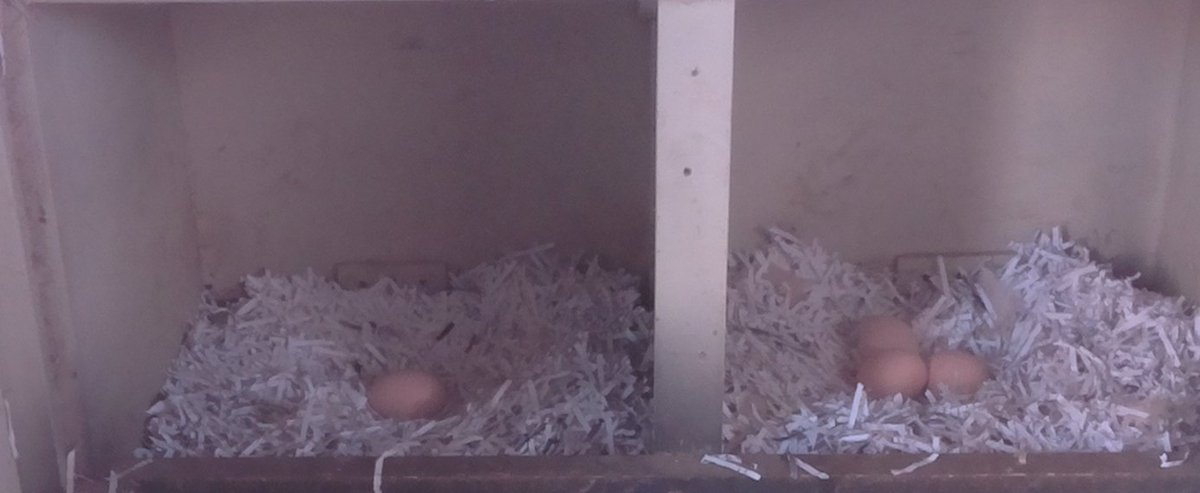egg: (363, 366, 453, 420), (854, 342, 930, 403), (920, 345, 993, 407), (843, 311, 925, 362)
